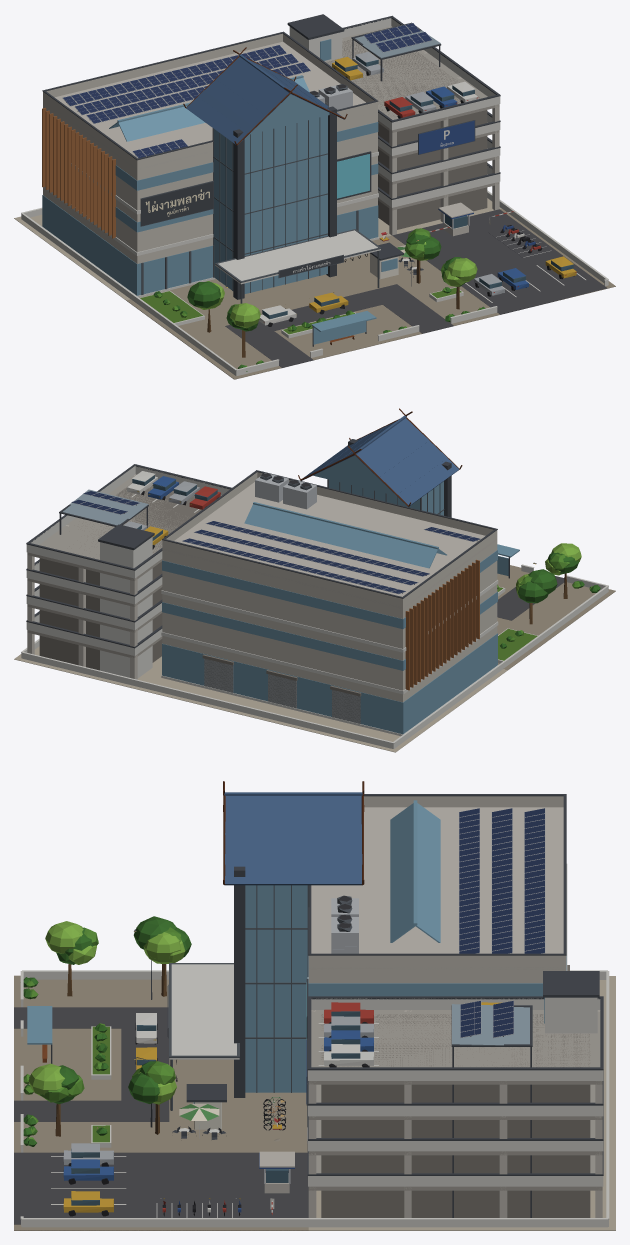
Rendered from store.glb.
The picture shows the model from 3 angles, top to bottom: view 1: azimuth 30°, elevation 25°; view 2: azimuth 150°, elevation 25°; view 3: azimuth 270°, elevation 25°; orthographic projection. The views are drawn at different scales.
Parts seen in each view (by area): view 1: body, windows; view 2: body, windows; view 3: body, windows.
Part boxes in pixels (x1,y1,x2,y2): body: (14, 14, 615, 379); windows: (145, 55, 576, 322); body: (14, 408, 615, 752); windows: (132, 475, 535, 564); body: (14, 781, 615, 1230); windows: (71, 931, 360, 1205).
Size of the model in its own units: 47.9 by 24.7 by 47.9.
